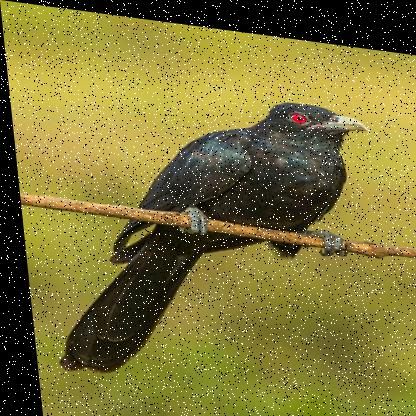Burung: (28, 67, 387, 405)
